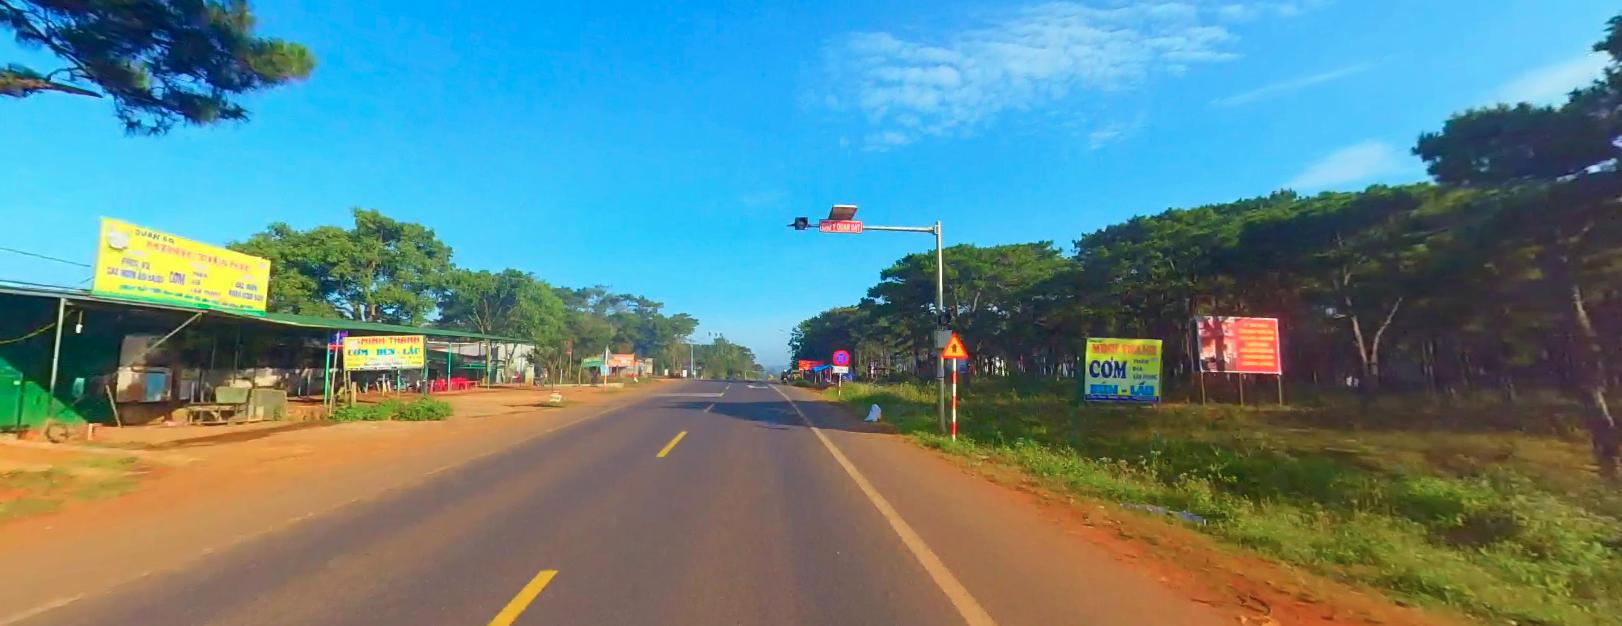Cam dung va do: (832, 348, 849, 364)
Nguy hiem: (940, 329, 969, 357)
